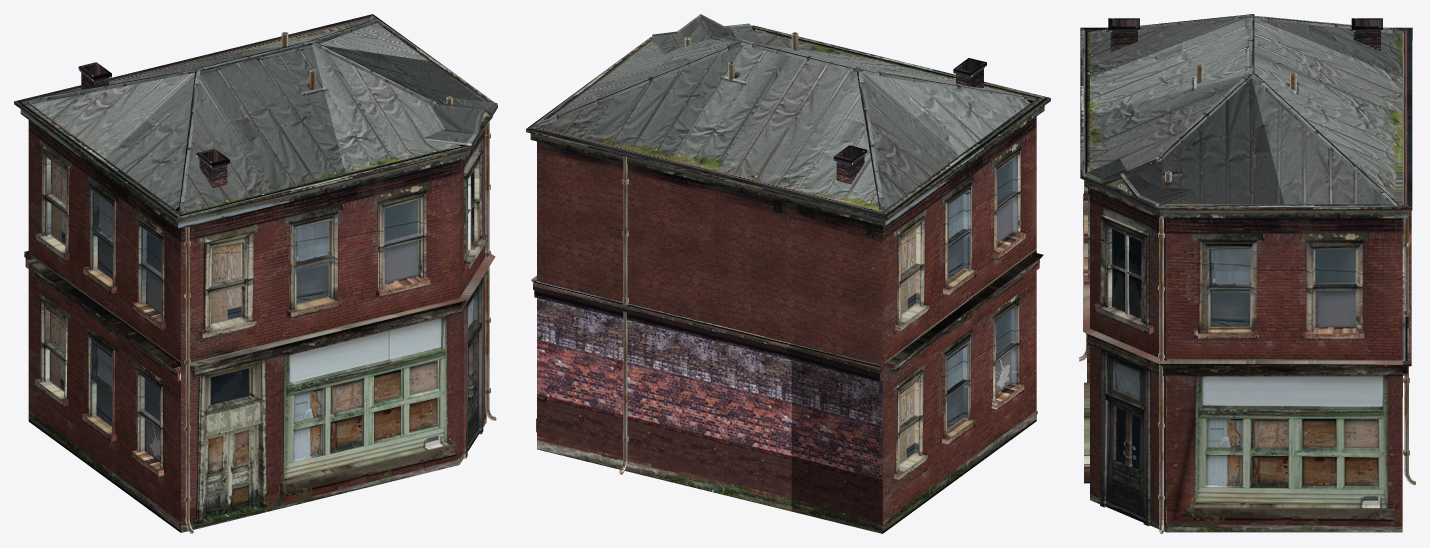
The model's file is S7_old-house_00.FBX.
The picture shows the model from 3 angles, left to right: view 1: azimuth 30°, elevation 25°; view 2: azimuth 150°, elevation 25°; view 3: azimuth 270°, elevation 25°; orthographic projection. The views are drawn at different scales.
Visible parts, largest first — view 1: S7_old_house; view 2: S7_old_house; view 3: S7_old_house.
Boxes of the visible parts, bbox=[...] form: S7_old_house: bbox=[14, 14, 497, 533]; S7_old_house: bbox=[526, 14, 1050, 533]; S7_old_house: bbox=[1079, 14, 1415, 533].
Bounding box in the file's own units: 947 × 964 × 748.
